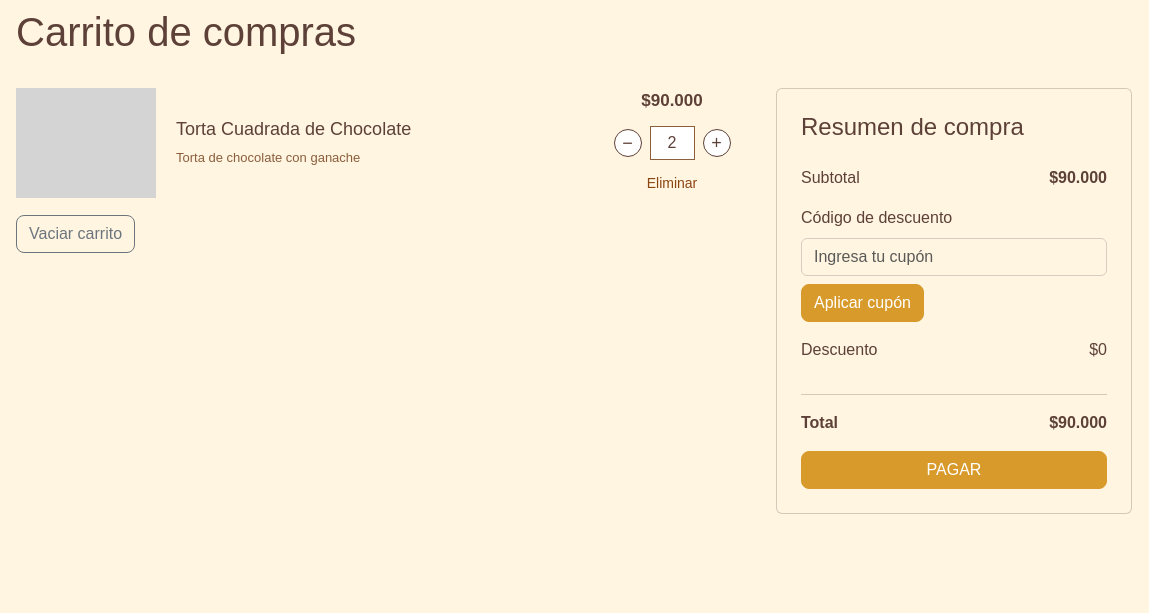
C07 - Página del carrito › mantiene el carrito y muestra el error cuando falla la API
Click the button "PAGAR".
click(954, 470)  # box left=801, top=451, right=1107, bottom=489
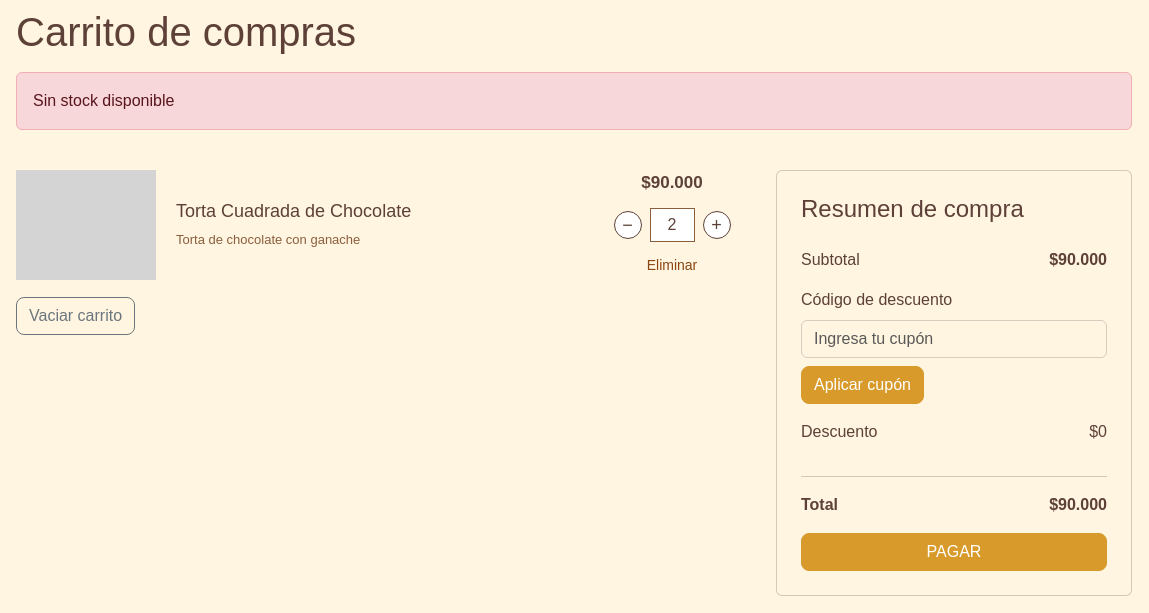
Expected: the button "PAGAR" is enabled, left=801, top=533, right=1107, bottom=571
Expected: the message reads "Sin stock disponible", left=33, top=92, right=174, bottom=109
